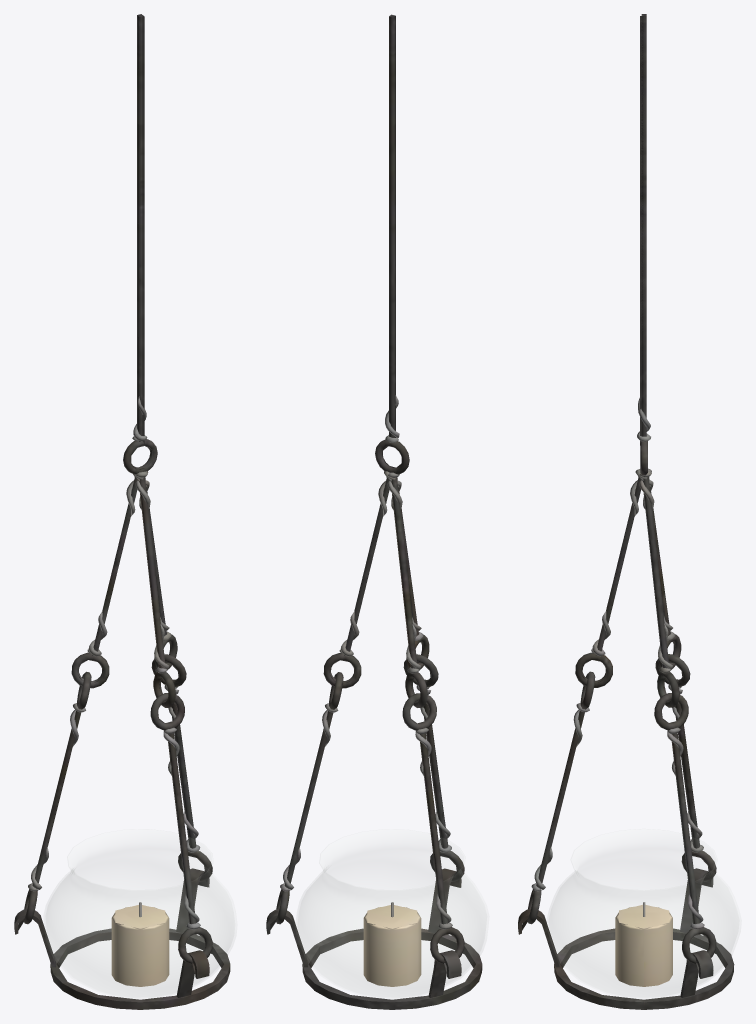
The model's file is HangingCandleHolder.glb.
3 renders of one model, left to right at view 1: azimuth 30°, elevation 25°; view 2: azimuth 150°, elevation 25°; view 3: azimuth 270°, elevation 25°, orthographic.
Visible parts, largest first — view 1: CandleMedium, GlassBowl; view 2: CandleMedium, GlassBowl; view 3: CandleMedium, GlassBowl.
Boxes of the visible parts, x1,y1,x2,y2 form: CandleMedium: (14, 14, 230, 1009); GlassBowl: (46, 867, 234, 997); CandleMedium: (266, 14, 482, 1009); GlassBowl: (298, 867, 486, 997); CandleMedium: (518, 14, 734, 1009); GlassBowl: (549, 870, 739, 997).
Size of what is drawn, in the model's own units: 0.274 by 1.3 by 0.2718.
Materials: 3 (1 with a texture image).
